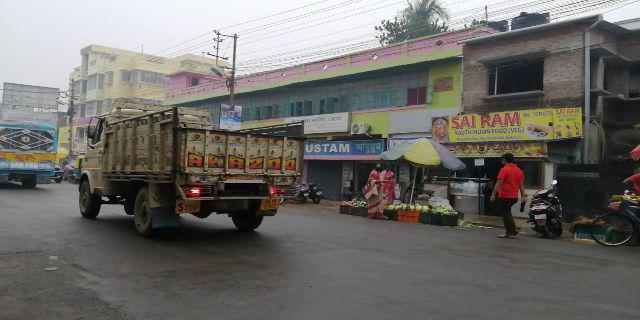Bus: (6, 119, 58, 181)
Truck: (92, 104, 304, 227)
